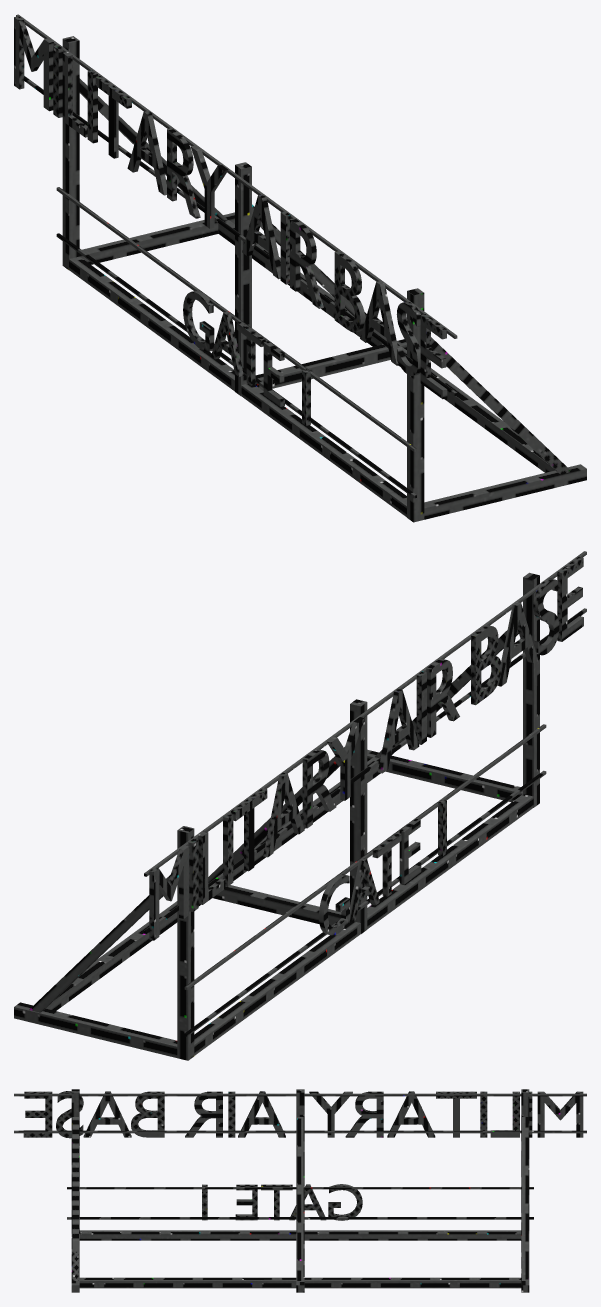
File: SM_Gate_Signboard.fbx
3 renders of one model, top to bottom at view 1: azimuth 30°, elevation 25°; view 2: azimuth 150°, elevation 25°; view 3: azimuth 270°, elevation 25°, orthographic. The views are drawn at different scales.
Visible parts, largest first — view 1: SM_Gate_Signboard_LOD0; view 2: SM_Gate_Signboard_LOD0; view 3: SM_Gate_Signboard_LOD0.
Part boxes in pixels (x1=…): SM_Gate_Signboard_LOD0: x1=14, y1=14, x2=586, y2=522; SM_Gate_Signboard_LOD0: x1=14, y1=551, x2=586, y2=1060; SM_Gate_Signboard_LOD0: x1=14, y1=1089, x2=586, y2=1292.
Bounding box in the file's own units: 100 × 420 × 120.
Materials: 2 (2 with a texture image).
